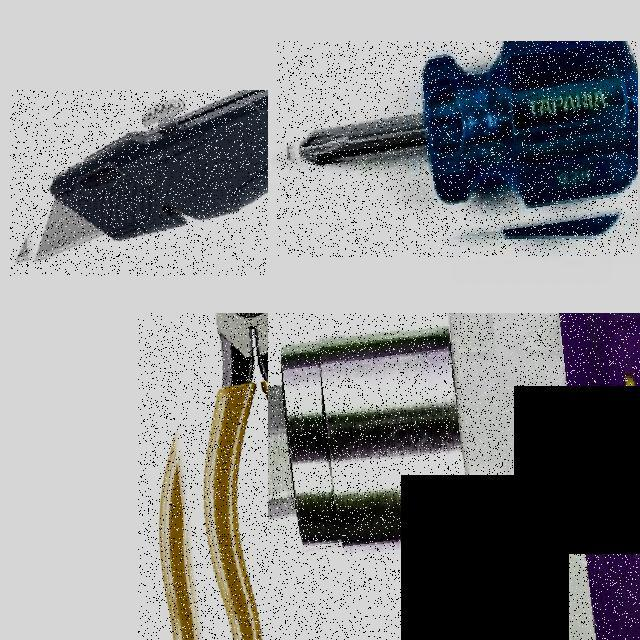estilete: (36, 90, 267, 256)
